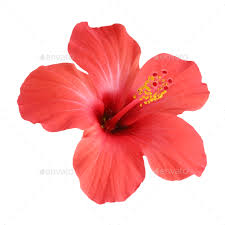hybiscus: (16, 18, 210, 206)
